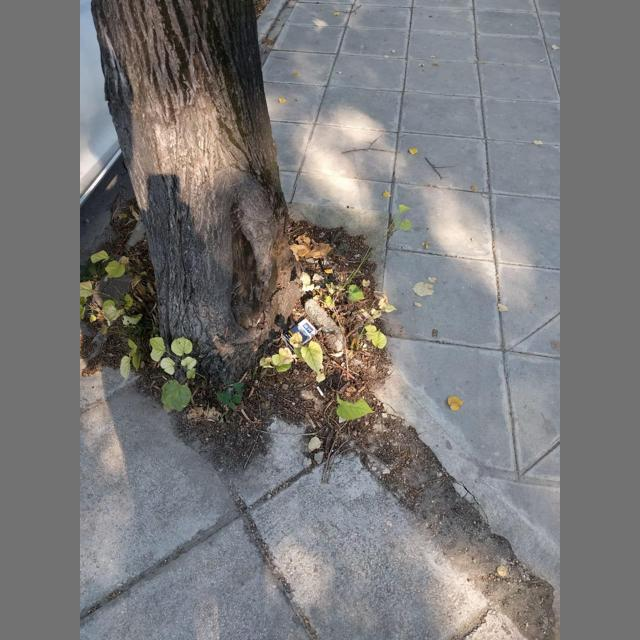litter: (282, 316, 320, 351), (315, 386, 325, 398)
